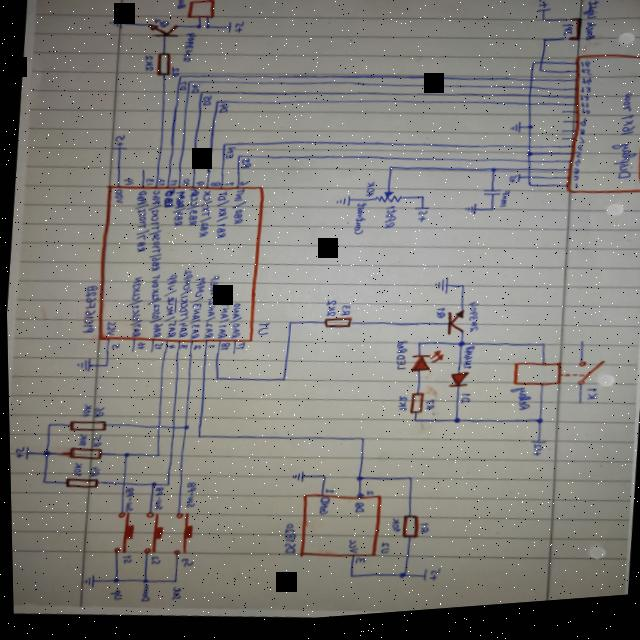capacitor: (480, 194, 502, 205)
crossover: (167, 425, 175, 433), (524, 165, 532, 172), (153, 424, 160, 431), (524, 173, 531, 179), (119, 481, 125, 487), (525, 151, 531, 157), (538, 66, 544, 72), (528, 85, 534, 90), (526, 100, 532, 105), (525, 182, 531, 187), (526, 109, 532, 114), (527, 92, 533, 97)
diode: (407, 352, 444, 380), (446, 376, 468, 395)
ground: (432, 281, 449, 300), (75, 357, 90, 374), (333, 198, 351, 212), (463, 208, 478, 223), (108, 17, 123, 31), (508, 127, 521, 141), (80, 574, 93, 588), (289, 473, 303, 486)
junction: (394, 575, 405, 585), (39, 449, 51, 458), (352, 478, 362, 487), (532, 424, 543, 432), (180, 425, 189, 433), (285, 322, 293, 330), (456, 346, 464, 354), (44, 420, 52, 428), (487, 212, 495, 219), (120, 452, 128, 459), (38, 477, 45, 485), (524, 158, 532, 165), (109, 577, 117, 584), (451, 422, 458, 430), (278, 379, 285, 386), (409, 422, 416, 429), (152, 453, 159, 460), (526, 131, 533, 138), (148, 482, 155, 489), (345, 577, 353, 583), (212, 378, 219, 384), (538, 349, 545, 355), (386, 170, 393, 176), (139, 578, 146, 584), (100, 364, 108, 369), (205, 26, 211, 32), (196, 26, 202, 32), (526, 189, 532, 195), (194, 435, 200, 441), (418, 200, 425, 205), (540, 25, 547, 30), (357, 441, 364, 446), (489, 174, 495, 179), (541, 45, 547, 50), (319, 477, 325, 482), (458, 290, 464, 295), (415, 346, 421, 351), (404, 481, 410, 486), (170, 580, 175, 585), (531, 68, 536, 72), (538, 76, 542, 80), (199, 93, 203, 97), (215, 102, 219, 106), (164, 484, 168, 487), (178, 77, 182, 80), (187, 82, 191, 85), (236, 157, 240, 160), (221, 146, 225, 149)
resistor: (66, 417, 106, 435), (66, 444, 101, 462), (62, 475, 98, 491), (397, 518, 418, 544), (320, 319, 352, 336), (155, 54, 172, 79), (374, 194, 402, 209), (406, 396, 423, 420)
switch: (169, 512, 194, 558), (109, 510, 134, 556), (139, 511, 164, 556), (560, 24, 582, 51)
terminal: (528, 446, 546, 453), (413, 210, 428, 216), (22, 445, 28, 459), (536, 14, 550, 20), (419, 573, 425, 587), (111, 147, 127, 152), (227, 24, 232, 36), (515, 180, 520, 190)
text: (611, 100, 638, 188), (140, 191, 167, 274), (141, 274, 167, 341), (128, 190, 153, 254), (122, 277, 146, 339), (158, 274, 180, 341), (200, 276, 221, 342), (174, 270, 193, 340), (186, 278, 206, 342), (78, 283, 98, 337), (212, 192, 230, 242), (580, 7, 600, 49), (196, 192, 213, 240), (229, 190, 248, 228), (183, 189, 201, 229), (225, 304, 243, 342), (170, 191, 187, 229), (506, 392, 530, 418), (215, 304, 231, 342), (464, 306, 481, 340), (278, 526, 296, 558), (391, 344, 409, 376), (351, 205, 367, 240), (181, 33, 197, 65), (181, 483, 196, 510), (382, 210, 397, 235), (460, 350, 474, 376), (151, 487, 164, 512), (121, 487, 133, 513), (136, 583, 150, 605), (161, 189, 175, 211), (314, 500, 329, 520), (322, 303, 337, 322), (343, 543, 359, 559), (111, 187, 125, 205), (142, 55, 155, 74), (255, 324, 271, 339), (497, 196, 509, 215), (167, 587, 180, 604), (582, 395, 597, 409), (103, 321, 116, 337), (425, 572, 438, 588), (364, 185, 375, 203), (112, 135, 126, 149), (88, 433, 101, 448), (529, 449, 541, 465), (105, 589, 121, 601), (538, 0, 550, 16), (395, 400, 406, 417), (153, 19, 170, 30), (338, 308, 351, 322), (350, 504, 363, 518), (79, 403, 91, 418), (12, 444, 24, 459), (70, 461, 81, 477), (388, 522, 399, 538), (239, 160, 252, 173), (560, 31, 573, 44), (86, 465, 99, 478), (90, 406, 103, 419), (177, 559, 192, 570), (234, 22, 245, 37), (75, 432, 86, 447), (201, 96, 213, 109), (457, 398, 469, 411), (376, 546, 388, 559), (416, 214, 427, 228), (224, 148, 235, 162), (206, 181, 221, 191), (175, 343, 190, 353), (175, 0, 187, 12), (433, 313, 445, 325), (150, 342, 163, 353), (422, 403, 433, 416), (193, 180, 207, 190), (118, 555, 130, 566), (416, 527, 427, 539), (216, 344, 229, 354), (351, 561, 364, 571), (121, 178, 134, 188), (221, 182, 235, 191), (217, 105, 228, 116), (190, 85, 200, 97), (147, 556, 159, 566), (170, 68, 180, 80), (236, 181, 249, 190), (134, 342, 145, 352), (580, 84, 591, 94), (179, 179, 191, 188), (233, 344, 244, 353), (580, 76, 592, 84), (109, 343, 119, 352), (508, 181, 517, 191), (144, 179, 154, 188), (156, 179, 165, 189), (179, 82, 187, 93), (190, 345, 200, 353), (322, 490, 332, 498), (578, 125, 586, 135), (580, 115, 590, 123), (579, 94, 590, 101), (572, 166, 580, 175), (578, 102, 588, 109), (580, 69, 590, 76), (168, 181, 177, 188), (363, 493, 372, 500), (579, 109, 588, 116), (571, 190, 579, 197), (573, 159, 581, 166), (578, 136, 585, 144), (165, 345, 174, 351), (571, 182, 578, 189), (571, 176, 578, 183), (576, 153, 583, 160), (577, 145, 584, 152), (205, 346, 213, 351)
transistor: (148, 20, 180, 43), (443, 315, 465, 343)
